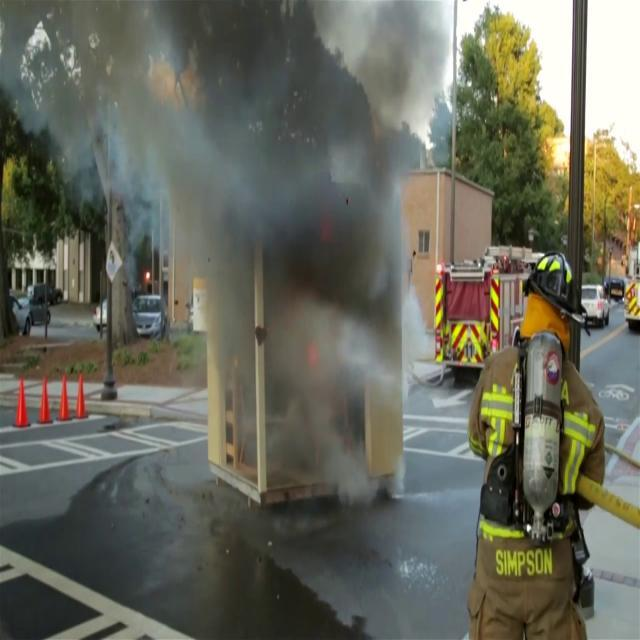Smoke: (168, 0, 445, 511)
